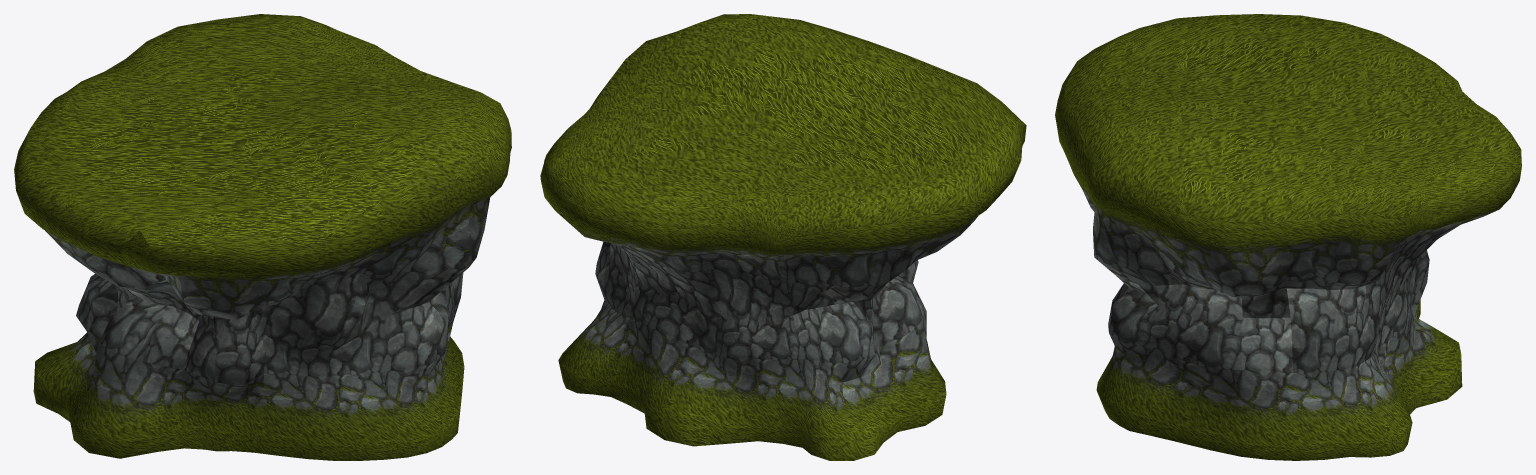
The model's file is PlatformGrass4.obj.
The picture shows the model from 3 angles, left to right: view 1: azimuth 30°, elevation 25°; view 2: azimuth 150°, elevation 25°; view 3: azimuth 270°, elevation 25°; orthographic projection. The views are drawn at different scales.
Visible parts, largest first — view 1: Mesh; view 2: Mesh; view 3: Mesh.
Boxes of the visible parts, bbox=[...] form: Mesh: bbox=[14, 14, 511, 460]; Mesh: bbox=[540, 14, 1026, 460]; Mesh: bbox=[1055, 14, 1521, 460].
Bounding box in the file's own units: 18.27 × 12.58 × 17.94.
